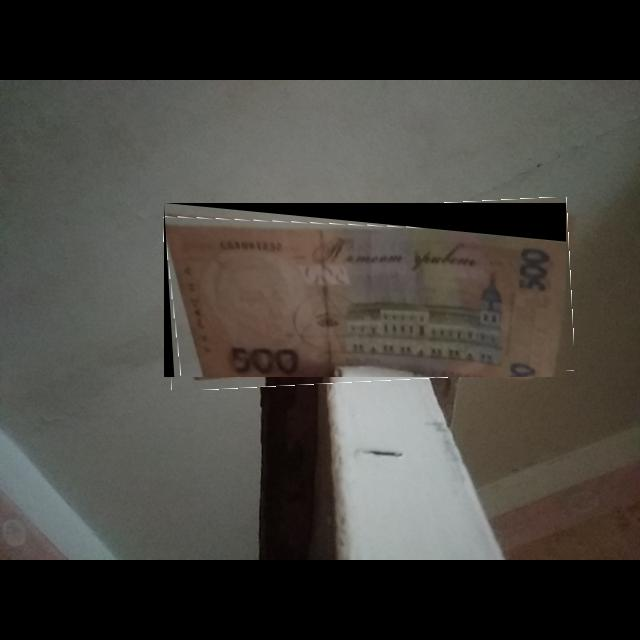500uah: (165, 224, 567, 378)
